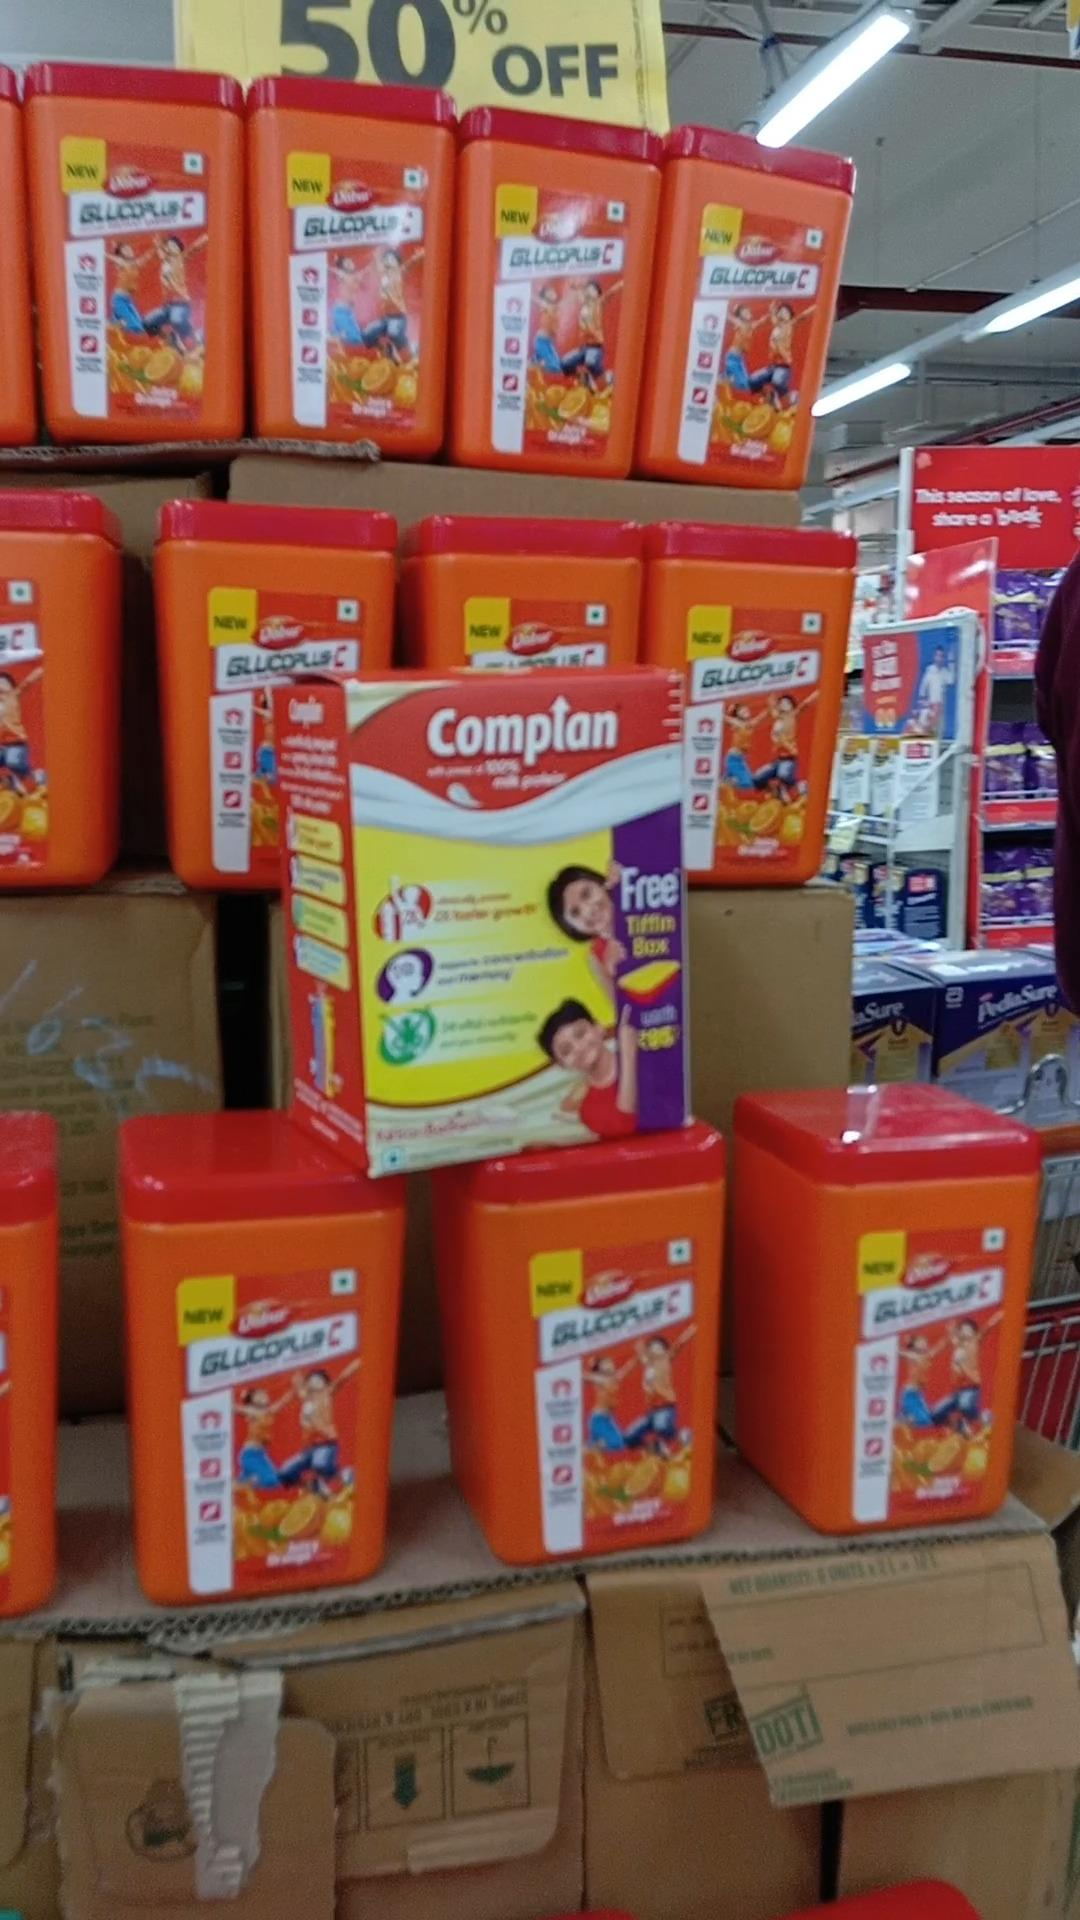COMPLAN_KESAR_BADAM_500_GMS_PACK: (344, 680, 688, 1188)
